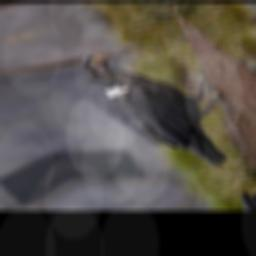Crow: (64, 33, 256, 182)
